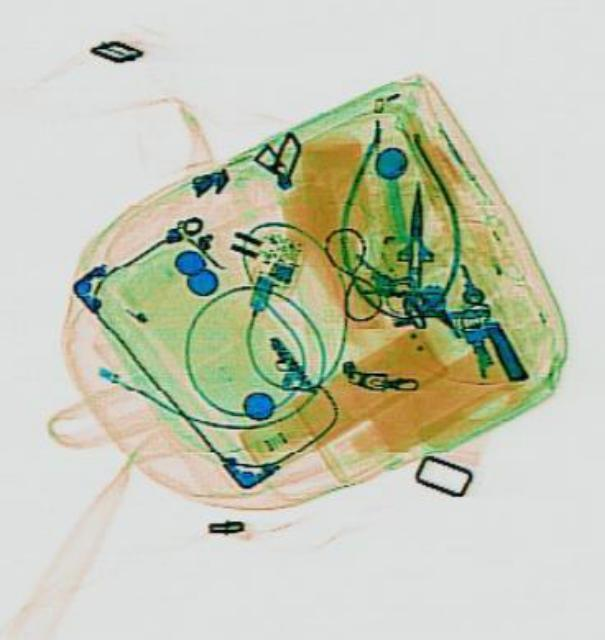Knife: (393, 179, 433, 285)
